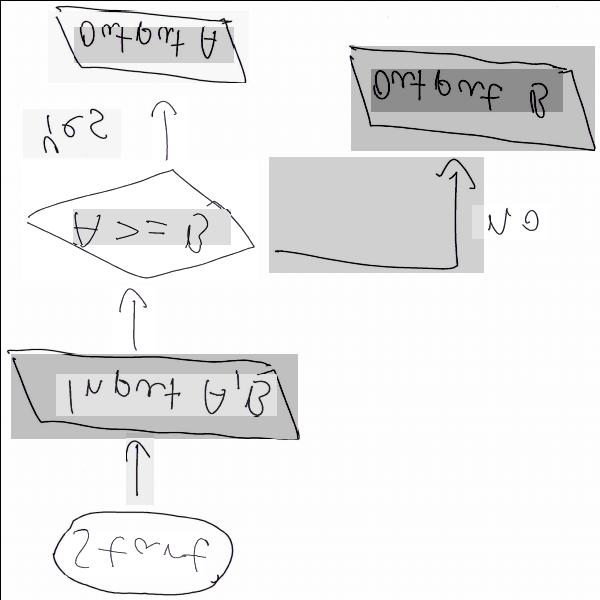arrow: (268, 156, 483, 272), (112, 286, 155, 350), (152, 96, 187, 161), (126, 432, 154, 504)
data: (350, 45, 594, 149), (11, 353, 297, 437), (47, 10, 248, 82)
decision: (21, 160, 257, 280)
text: (55, 373, 276, 415), (370, 68, 562, 111), (64, 530, 204, 576), (74, 25, 234, 61), (72, 208, 230, 244), (22, 108, 120, 157), (471, 204, 548, 238)
